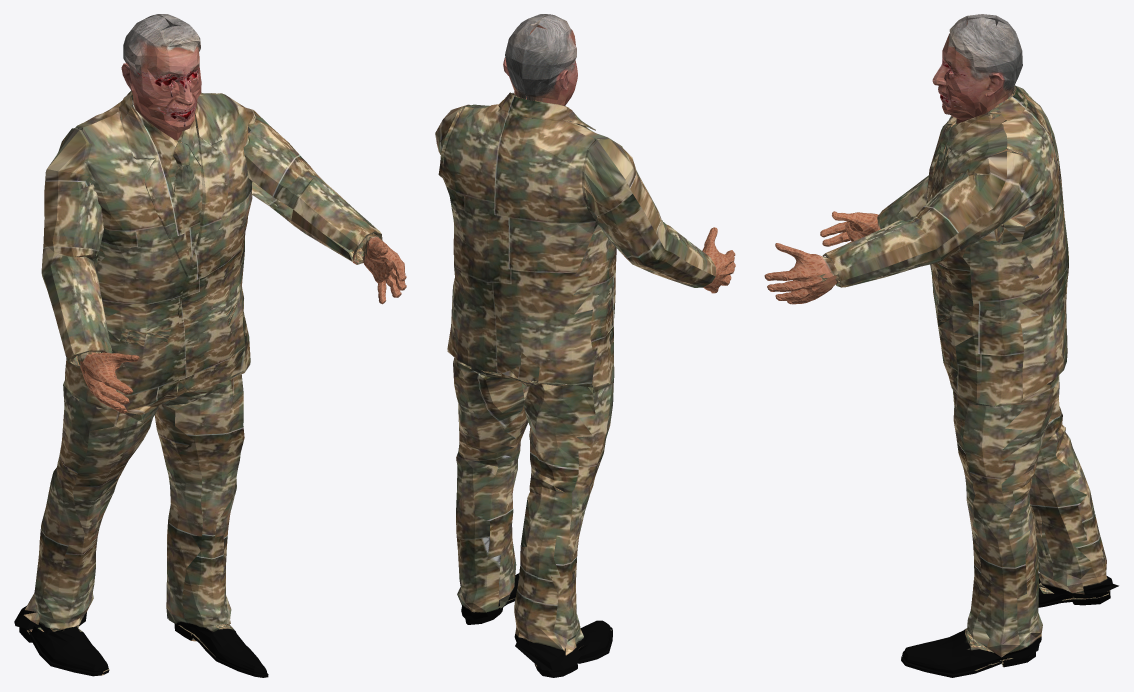
The model's file is zombie_000038.obj.
The picture shows the model from 3 angles, left to right: view 1: azimuth 30°, elevation 25°; view 2: azimuth 150°, elevation 25°; view 3: azimuth 270°, elevation 25°; orthographic projection. The views are drawn at different scales.
Visible parts, largest first — view 1: Suit_coat_orig_9___De, objGeo_Hea_orig_9___D; view 2: Suit_coat_orig_9___De, objGeo_Hea_orig_9___D; view 3: Suit_coat_orig_9___De, objGeo_Hea_orig_9___D.
Part boxes in pixels (x1,y1,x2,y2): Suit_coat_orig_9___De: (14, 90, 406, 677); objGeo_Hea_orig_9___D: (121, 14, 201, 140); Suit_coat_orig_9___De: (435, 92, 735, 677); objGeo_Hea_orig_9___D: (503, 14, 577, 105); Suit_coat_orig_9___De: (764, 85, 1118, 677); objGeo_Hea_orig_9___D: (932, 14, 1022, 123).
Bounding box in the file's own units: 0.8671 × 1.9 × 0.9758.
